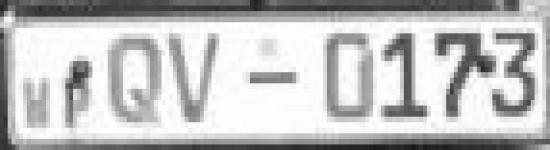-: (242, 64, 302, 94)
0: (319, 25, 377, 124)
1: (379, 22, 431, 128)
3: (486, 24, 538, 128)
7: (432, 24, 484, 125)
P: (60, 73, 91, 132)
Q: (98, 29, 166, 138)
V: (167, 28, 224, 128)
W: (18, 69, 52, 132)
